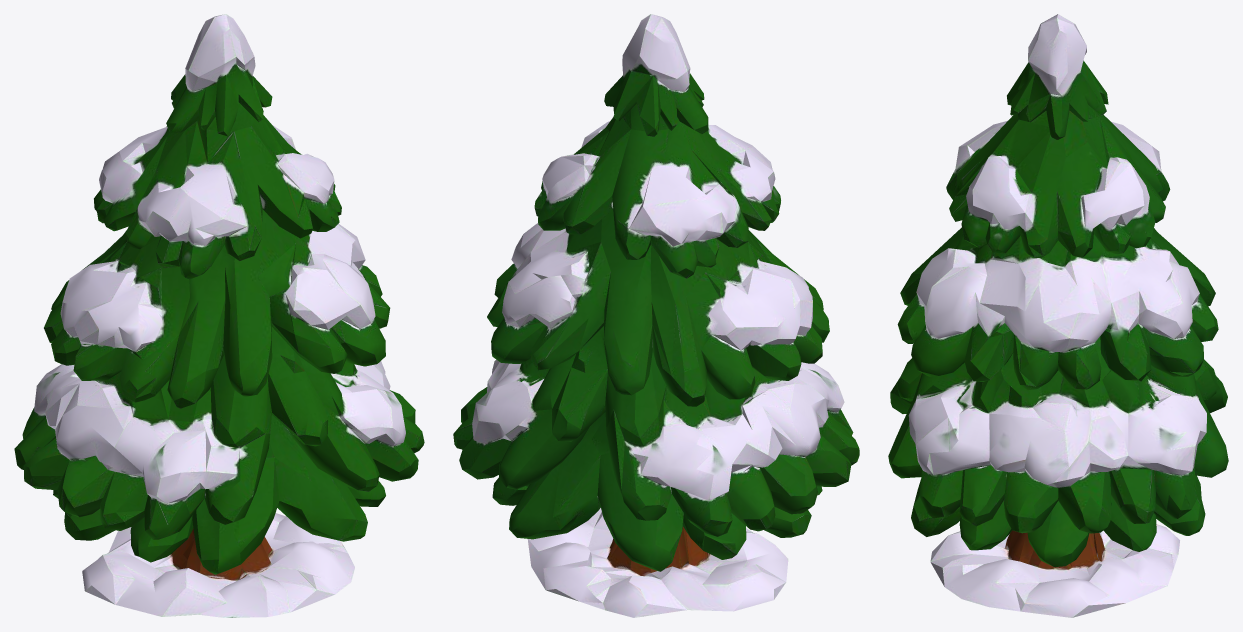
The model's file is tree_c.glb.
The picture shows the model from 3 angles, left to right: view 1: azimuth 30°, elevation 25°; view 2: azimuth 150°, elevation 25°; view 3: azimuth 270°, elevation 25°; orthographic projection.
Parts seen in each view (by area): view 1: output_unwrapped; view 2: output_unwrapped; view 3: output_unwrapped.
Boxes of the visible parts, x1,y1,x2,y2 form: output_unwrapped: (14, 14, 424, 617); output_unwrapped: (453, 14, 859, 617); output_unwrapped: (888, 14, 1228, 617).
Size of the model in its own units: 1.27 by 1.9 by 1.08.
Materials: 1 (1 with a texture image).
